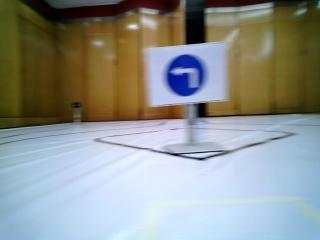left: (147, 47, 225, 102)
